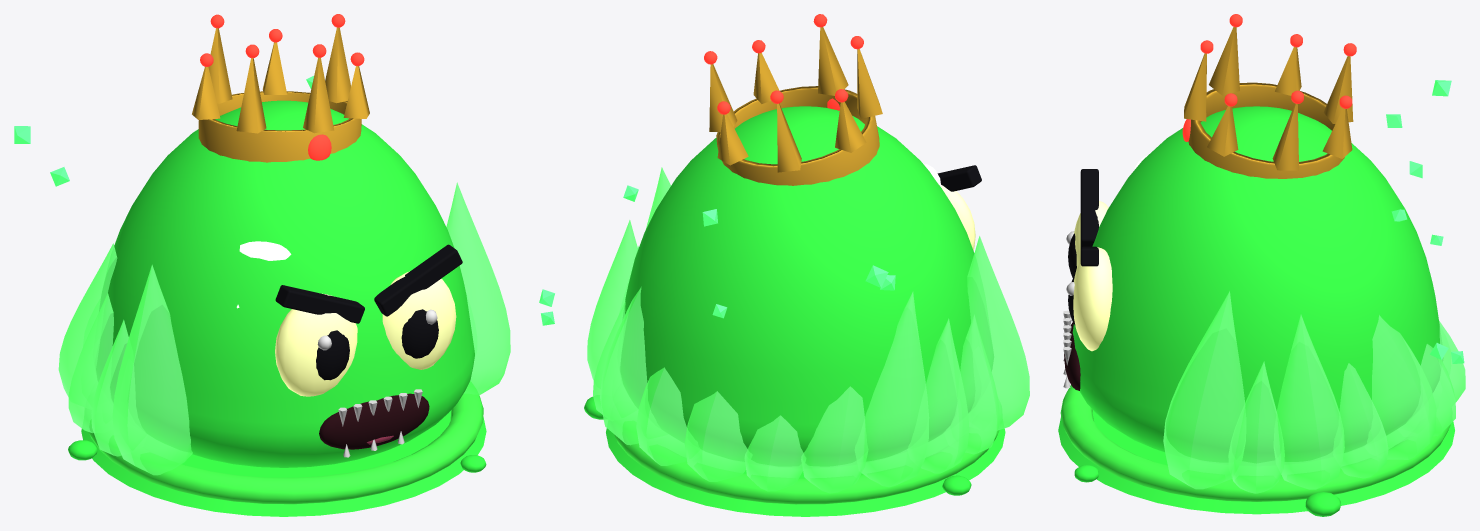
Rendered from boss_slime_king.glb.
3 renders of one model, left to right at view 1: azimuth 30°, elevation 25°; view 2: azimuth 150°, elevation 25°; view 3: azimuth 270°, elevation 25°, orthographic. The views are drawn at different scales.
Parts seen in each view (by area): view 1: Blob, Rim, AuraFlame12, Puddle, AuraFlame0, Crown_Band, Sclera, AuraFlame11, MouthCavity, AuraFlame10, AuraFlame9, Sclera_02 (+12 smaller); view 2: Blob, Rim, AuraFlame9, AuraFlame12, AuraFlame10, Puddle, Crown_Band, AuraFlame4, AuraFlame8, AuraFlame6, AuraFlame5, AuraFlame11 (+12 smaller); view 3: Blob, AuraFlame0, Rim, AuraFlame2, AuraFlame4, Puddle, Crown_Band, AuraFlame1, AuraFlame3, Sclera_02, AuraFlame5, Brow (+10 smaller).
Part boxes in pixels (bbox=[...]): Blob: bbox=[96, 100, 474, 467]; Rim: bbox=[88, 381, 483, 504]; AuraFlame12: bbox=[112, 264, 192, 475]; Puddle: bbox=[81, 410, 486, 516]; AuraFlame0: bbox=[446, 182, 510, 395]; Crown_Band: bbox=[198, 91, 361, 162]; Sclera: bbox=[275, 293, 357, 396]; AuraFlame11: bbox=[91, 319, 147, 456]; MouthCavity: bbox=[319, 393, 429, 449]; AuraFlame10: bbox=[68, 293, 113, 433]; AuraFlame9: bbox=[58, 243, 117, 406]; Sclera_02: bbox=[382, 271, 456, 369]; Blob: bbox=[620, 106, 993, 466]; Rim: bbox=[614, 420, 999, 504]; AuraFlame9: bbox=[855, 291, 929, 487]; AuraFlame12: bbox=[967, 236, 1029, 430]; AuraFlame10: bbox=[908, 318, 969, 473]; Puddle: bbox=[606, 428, 1005, 516]; Crown_Band: bbox=[716, 86, 879, 185]; AuraFlame4: bbox=[600, 286, 667, 445]; AuraFlame8: bbox=[801, 386, 867, 493]; AuraFlame6: bbox=[684, 391, 751, 481]; AuraFlame5: bbox=[636, 367, 700, 465]; AuraFlame11: bbox=[950, 314, 999, 454]; Blob: bbox=[1072, 106, 1443, 463]; AuraFlame0: bbox=[1163, 291, 1245, 489]; Rim: bbox=[1060, 385, 1450, 501]; AuraFlame2: bbox=[1274, 314, 1344, 489]; AuraFlame4: bbox=[1366, 315, 1436, 459]; Puddle: bbox=[1058, 410, 1454, 514]; Crown_Band: bbox=[1188, 82, 1344, 178]; AuraFlame1: bbox=[1228, 361, 1284, 493]; AuraFlame3: bbox=[1334, 363, 1388, 478]; Sclera_02: bbox=[1073, 247, 1112, 351]; AuraFlame5: bbox=[1400, 344, 1455, 436]; Brow: bbox=[1080, 169, 1098, 248].
Size of the model in its own units: 2.73 by 2.74 by 2.55.
